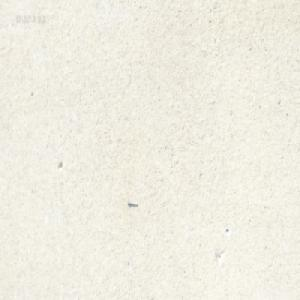Nail: (127, 200, 137, 207)
